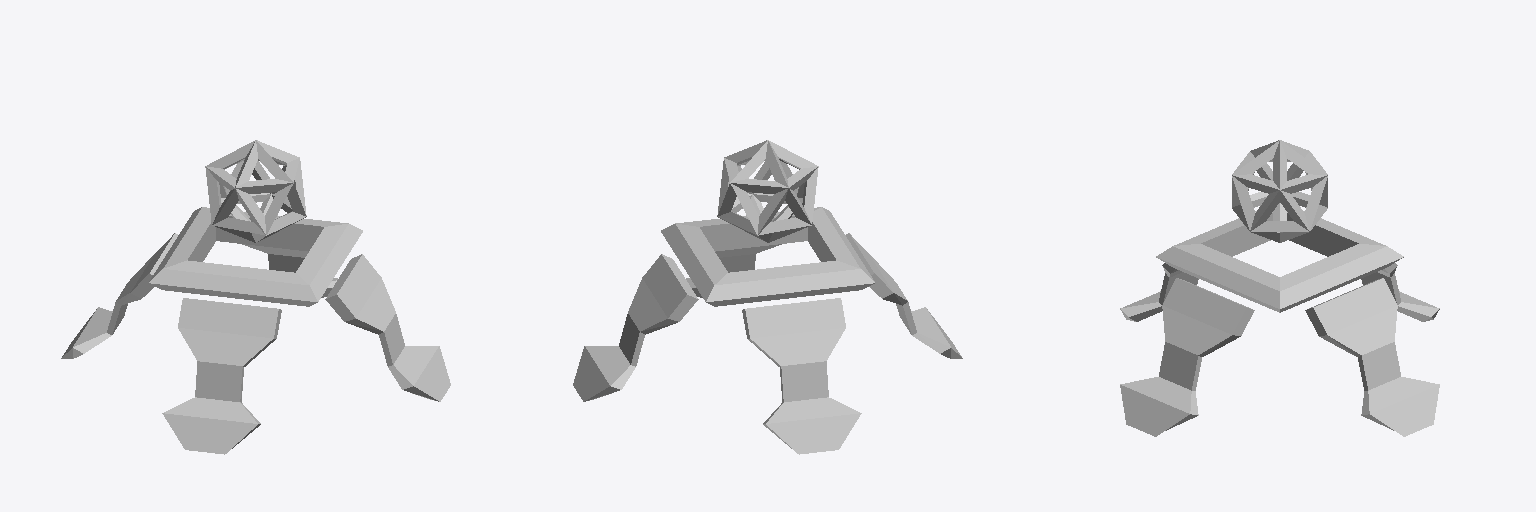
Rendered from Enemy.obj.
3 renders of one model, left to right at view 1: azimuth 30°, elevation 25°; view 2: azimuth 150°, elevation 25°; view 3: azimuth 270°, elevation 25°, orthographic.
Parts seen in each view (by area): view 1: Cube_Cube.002, Torus, Icosphere; view 2: Cube_Cube.002, Torus, Icosphere; view 3: Cube_Cube.002, Torus, Icosphere.
Part boxes in pixels (left/top/right/bottom): Cube_Cube.002: left=61, top=233, right=450, bottom=454; Torus: left=149, top=207, right=362, bottom=306; Icosphere: left=205, top=140, right=306, bottom=242; Cube_Cube.002: left=573, top=233, right=962, bottom=454; Torus: left=661, top=207, right=874, bottom=306; Icosphere: left=717, top=140, right=818, bottom=242; Cube_Cube.002: left=1120, top=263, right=1439, bottom=436; Torus: left=1156, top=211, right=1403, bottom=312; Icosphere: left=1232, top=140, right=1327, bottom=242.
Size of the model in its own units: 3.22 by 2.57 by 3.22.